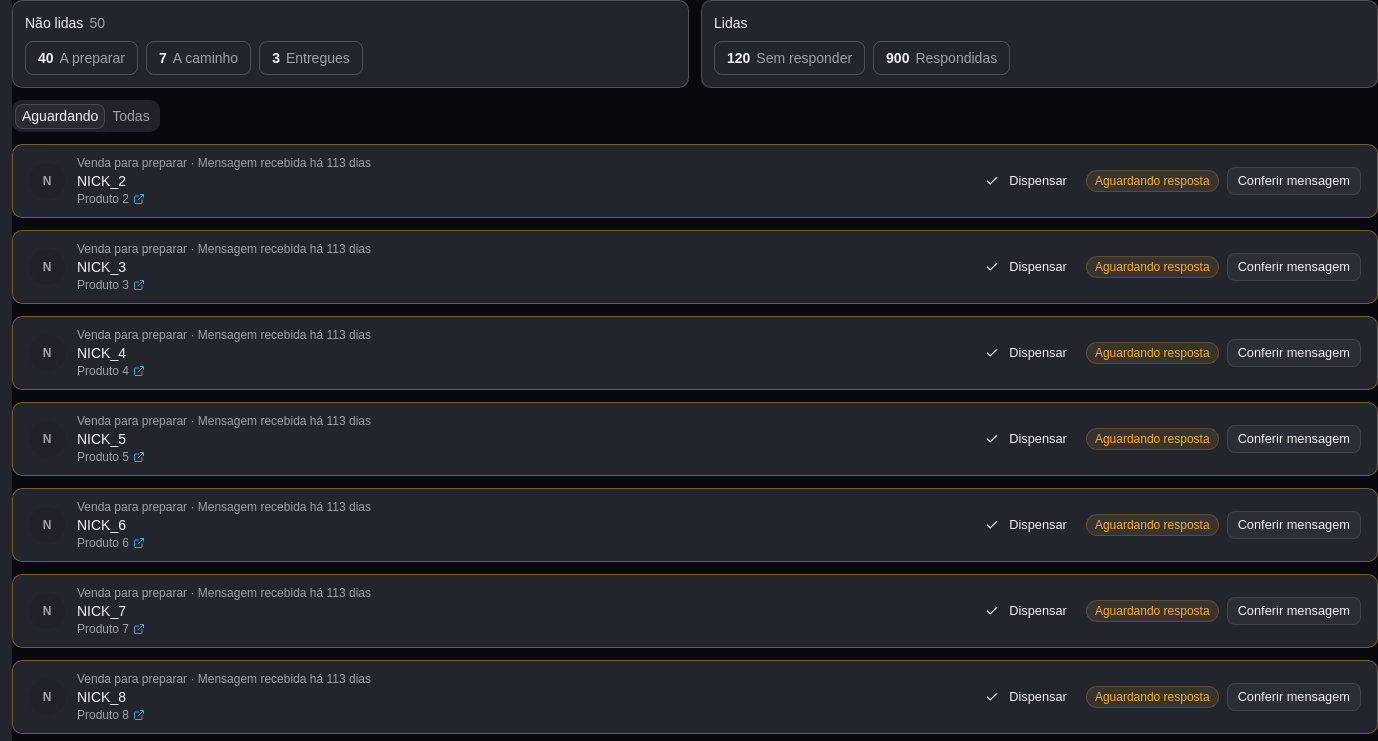
AbaMensagens › abre na aba Aguardando; a conversa cancelada (não aguardando) fica fora até trocar para Todas
expect the text "MARIA_01" is not shown: met
expect the text "Pedido cancelado" is not shown: met
Click the tab "Todas".
click(131, 116)  # box 105,104 -> 157,128
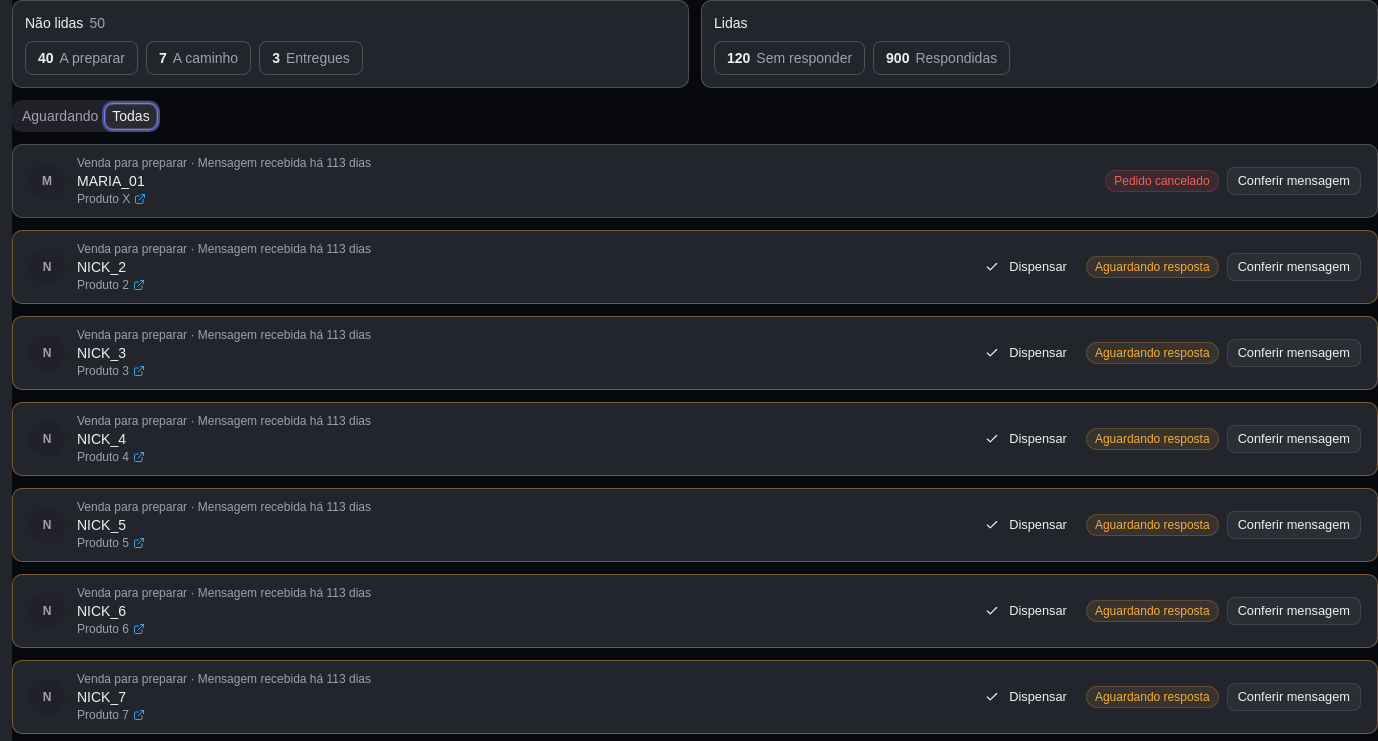
expect the text "MARIA_01" is shown: met, box 77,173 -> 145,189
Click the button "Conferir mensagem" next to "Pedido cancelado".
click(1294, 181)  # box 1227,167 -> 1361,195
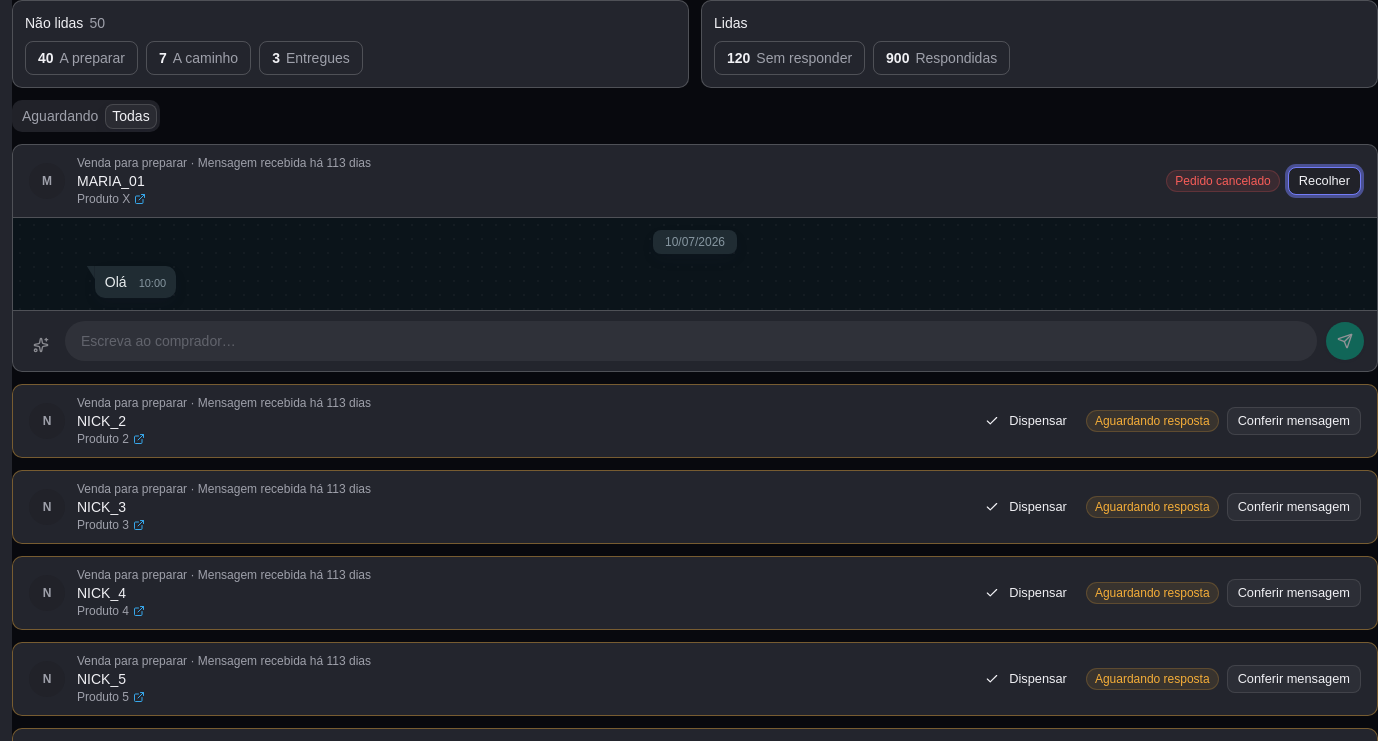
expect the text box is disabled: met, box 65,321 -> 1317,361
expect the button named "sugerir resposta" is disabled: met, box 25,329 -> 57,361
expect the button named "responder" is disabled: met, box 1325,321 -> 1365,361
